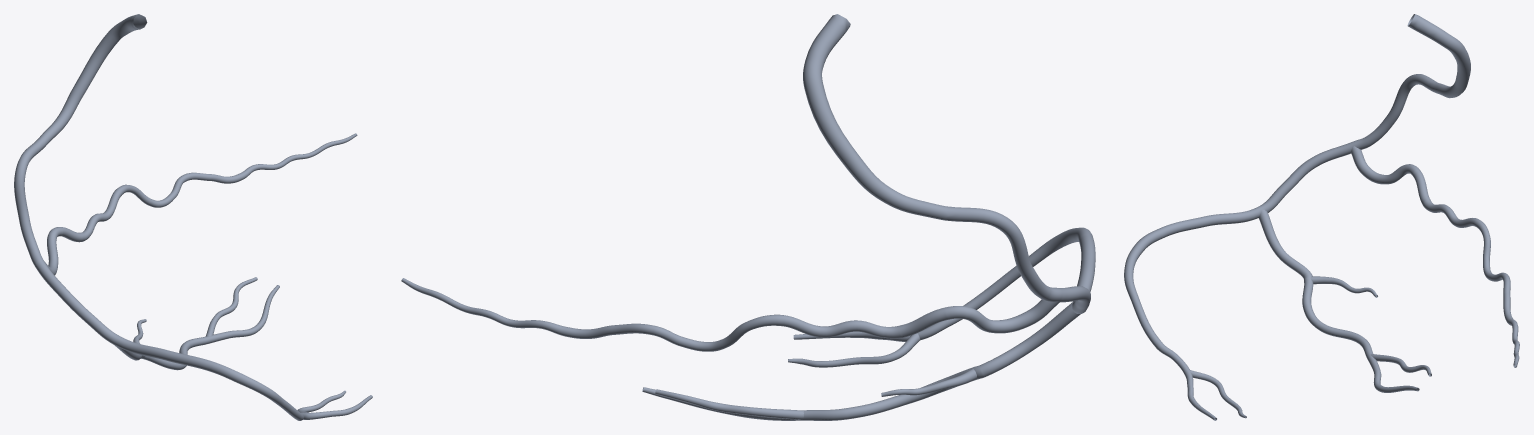
3 views of the same model, side by side, from view 1: azimuth 30°, elevation 25°; view 2: azimuth 150°, elevation 25°; view 3: azimuth 270°, elevation 25° (orthographic). The views are drawn at different scales.
Parts seen in each view (by area): view 1: （未命名结构）; view 2: （未命名结构）; view 3: （未命名结构）.
Boxes of the visible parts, x1,y1,x2,y2 form: （未命名结构）: (14, 14, 372, 420); （未命名结构）: (401, 14, 1095, 420); （未命名结构）: (1124, 14, 1519, 420).
Bounding box in the file's own units: 0.1149 × 0.0949 × 0.0982.
